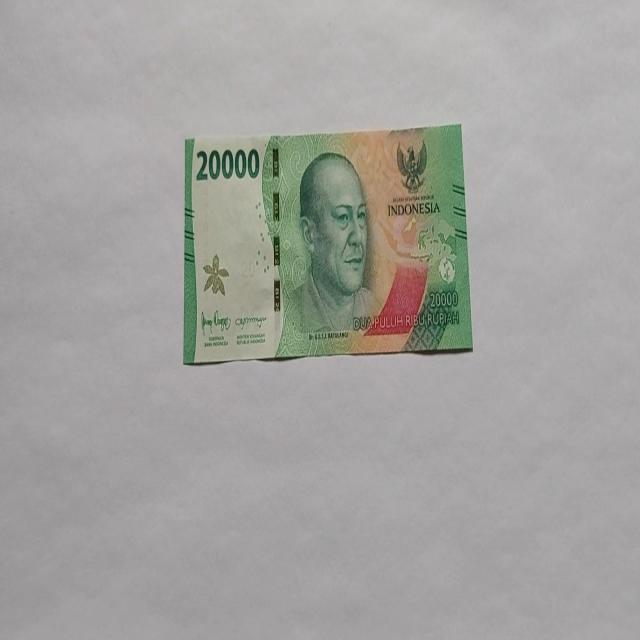dua puluh ribu rupiah: (183, 122, 473, 366), (276, 150, 382, 356)
